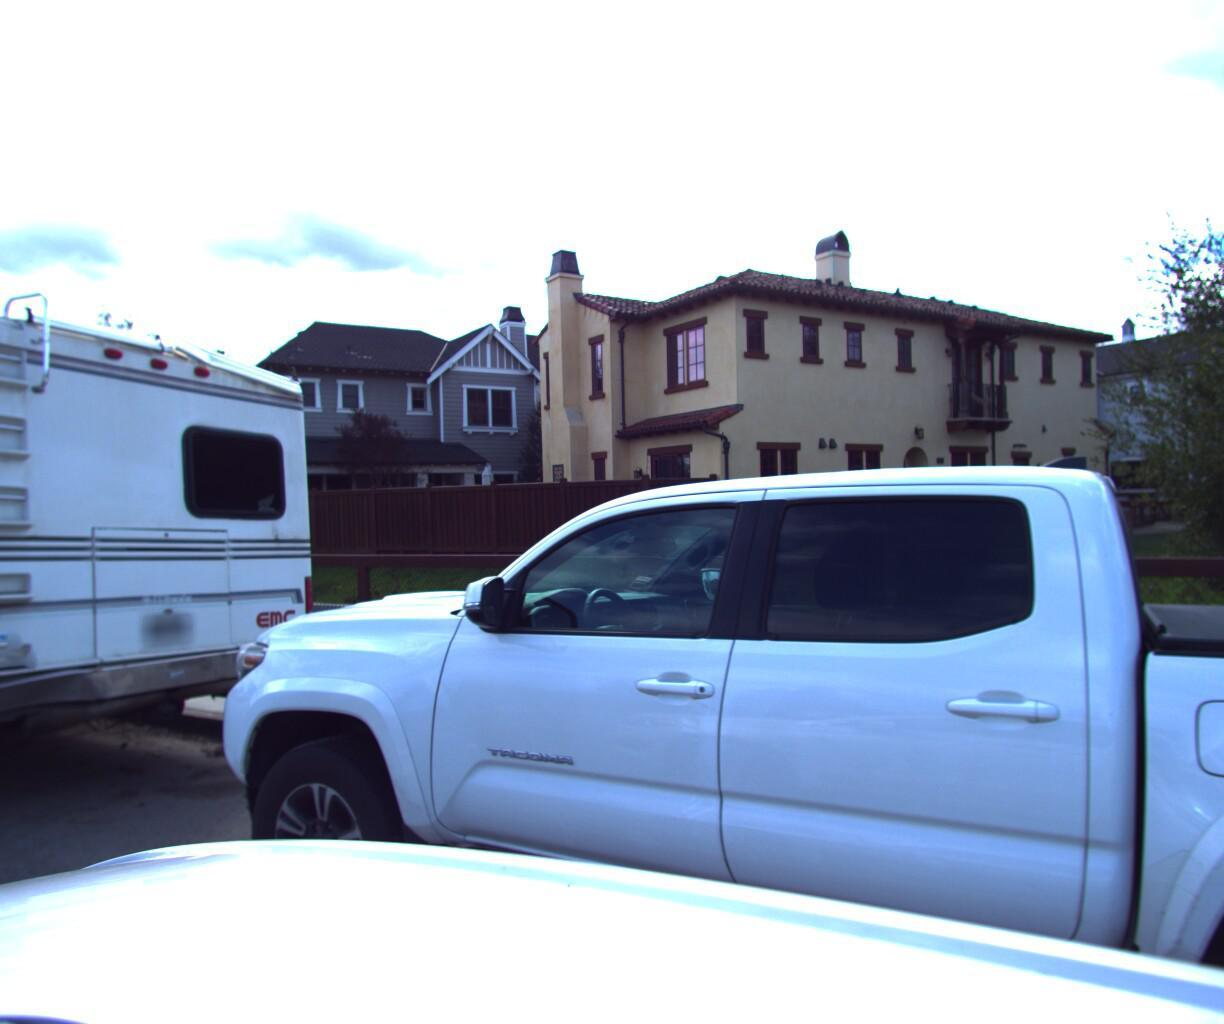car: (112, 369, 1224, 1024)
other_vehicle: (0, 184, 341, 882)
